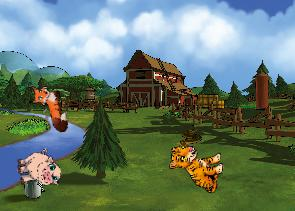fox: (25, 79, 70, 137)
pig: (14, 147, 62, 192)
tiger: (167, 143, 225, 193)
